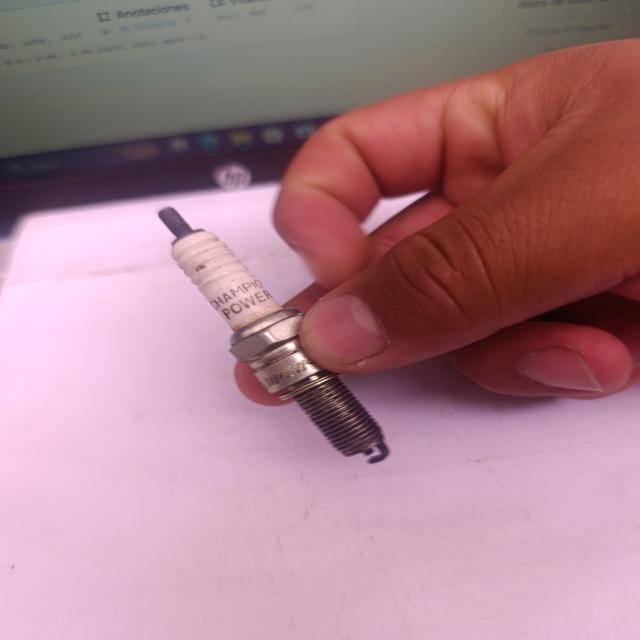bujia: (159, 208, 389, 463)
